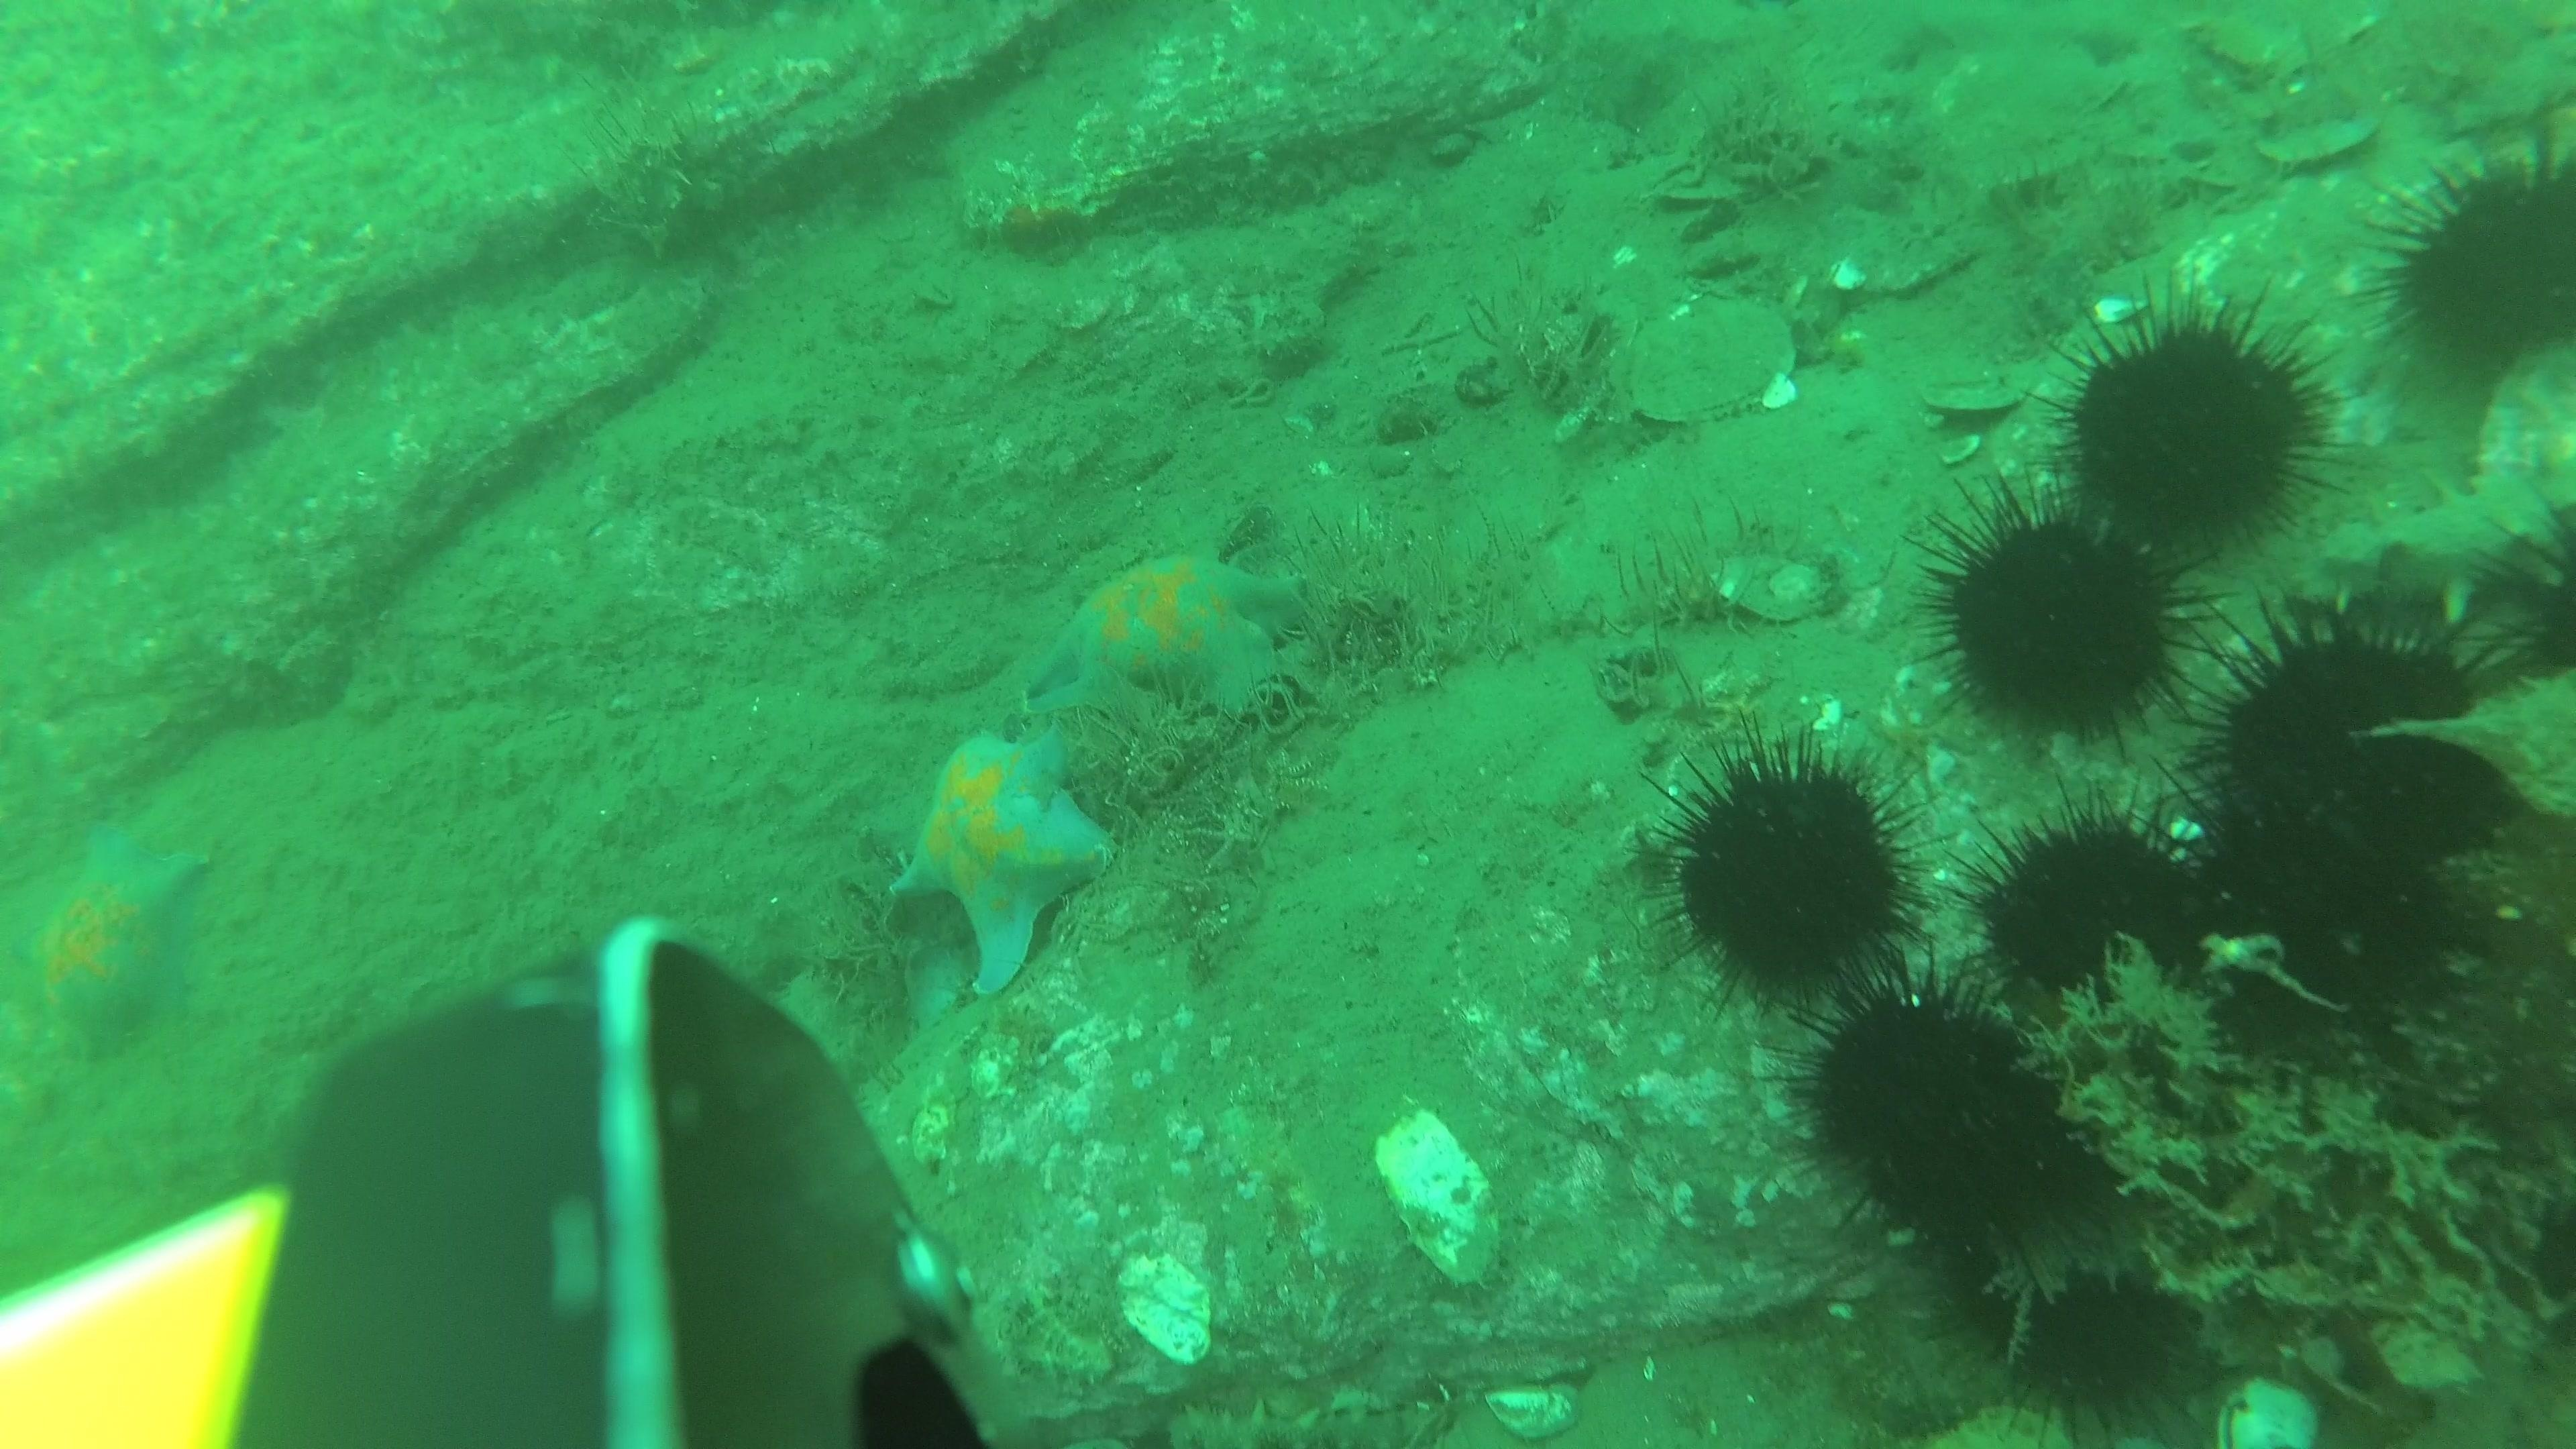echinus: (1780, 955, 2123, 1269), (2185, 586, 2521, 885), (2042, 287, 2344, 566), (1644, 725, 1932, 1014), (1913, 478, 2213, 752), (2169, 789, 2466, 1058), (1960, 791, 2227, 1024), (1928, 1230, 2212, 1435), (2362, 129, 2574, 396)
holothurian: (2291, 425, 2574, 639)
scallop: (1925, 46, 2123, 186), (1619, 294, 1798, 430), (2256, 97, 2380, 172), (1920, 361, 2022, 421)
starfish: (890, 727, 1116, 996), (1028, 548, 1306, 732), (14, 821, 214, 1056)
